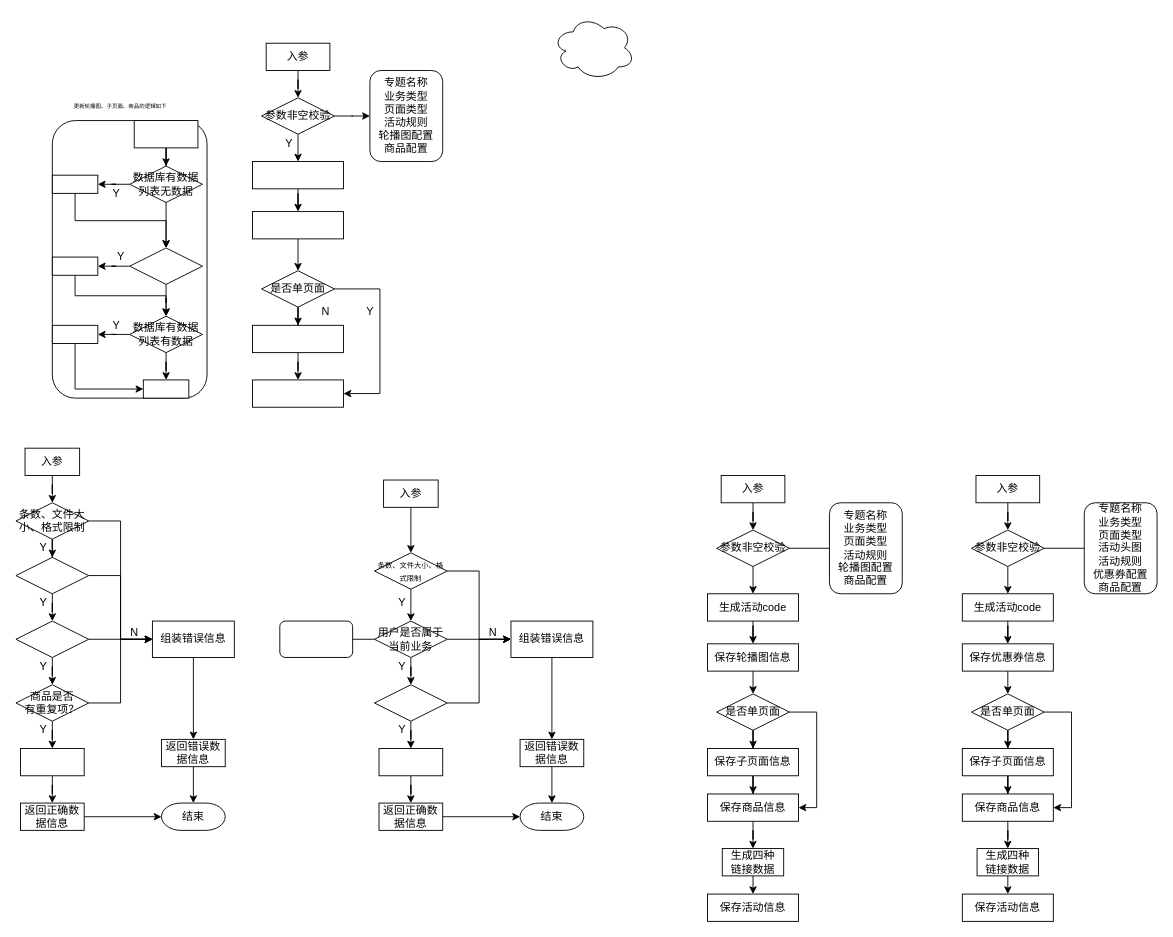
Some shapes in this 1173 by 937 pixel diagram are drawn without their labels. The shapes that lost their labels are listed below. From the top down, each one's box as (x1, y1, x2, y2) in pixels, then its label:
(552, 15, 635, 80): 将数据库信息与传进来的数据列表对比
(133, 120, 198, 148): 获取数据库信息
(51, 174, 98, 193): 删除数据
(252, 161, 344, 189): 更新活动信息
(252, 211, 344, 239): 更新轮播图信息
(51, 256, 98, 275): 新增数据
(129, 247, 202, 284): 数据库无数据 列表有数据
(51, 324, 98, 344): 更新数据
(252, 324, 344, 353): 更新子页面信息
(142, 379, 189, 398): 下一步
(252, 379, 344, 407): 更新商品信息
(15, 556, 89, 594): 商品是否存在
(15, 620, 89, 657): 商品是否上架
(279, 620, 353, 657): tenentId userIdentity
(374, 684, 447, 721): 用户是否重复
(20, 748, 84, 776): 组装商品信息
(378, 748, 443, 776): 上传文件到七牛云
